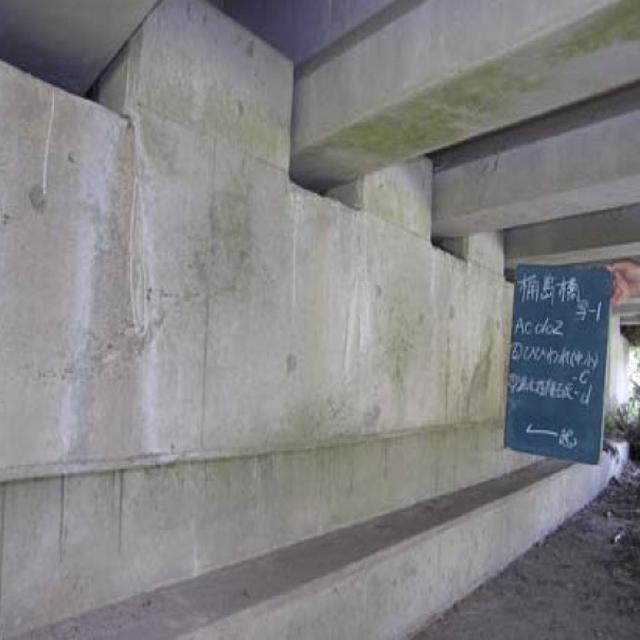freelime: (130, 184, 177, 454)
